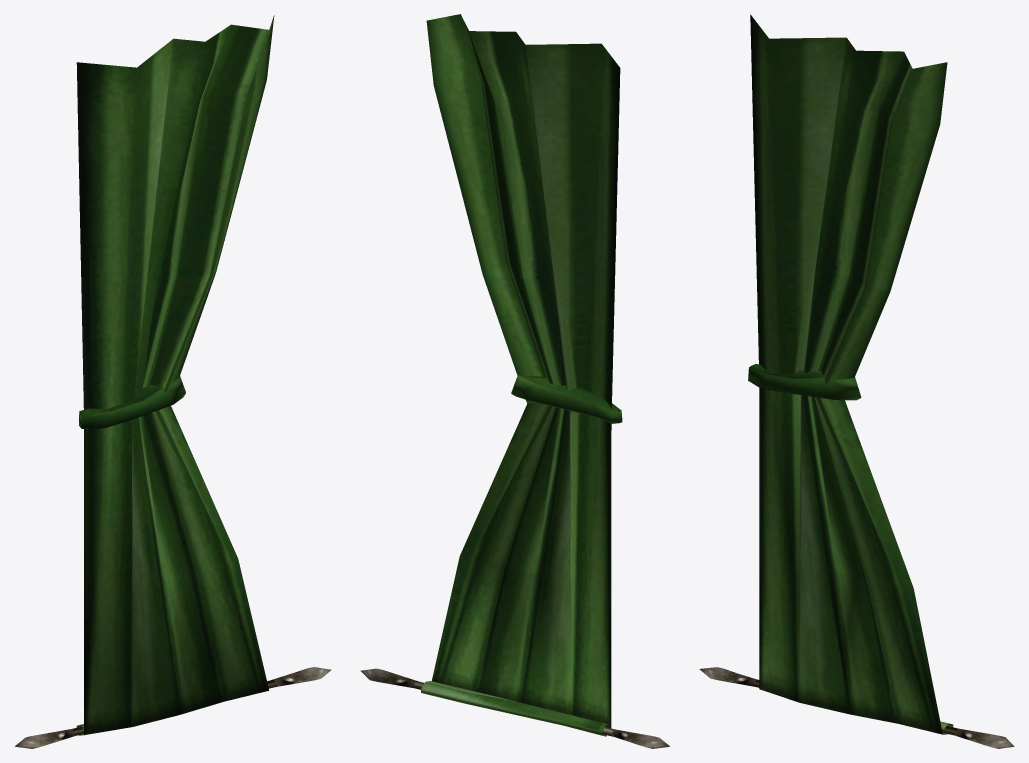
File: velvet_curtain_1story.fbx
3 views of the same model, side by side, from view 1: azimuth 30°, elevation 25°; view 2: azimuth 150°, elevation 25°; view 3: azimuth 330°, elevation 25° (orthographic). The views are drawn at different scales.
Parts seen in each view (by area): view 1: mesh_0; view 2: mesh_0; view 3: mesh_0.
Boxes of the visible parts, x1=… form: mesh_0: x1=15, y1=15, x2=331, y2=748; mesh_0: x1=360, y1=14, x2=669, y2=748; mesh_0: x1=699, y1=14, x2=1014, y2=748.
Bounding box in the file's own units: 194 × 398 × 35.23.
1 material, 1 textured.
